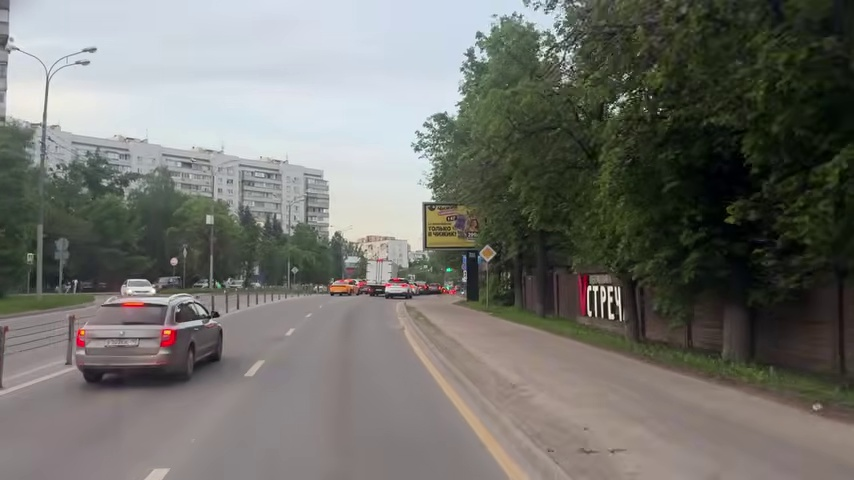apagada: (75, 44, 99, 69)
